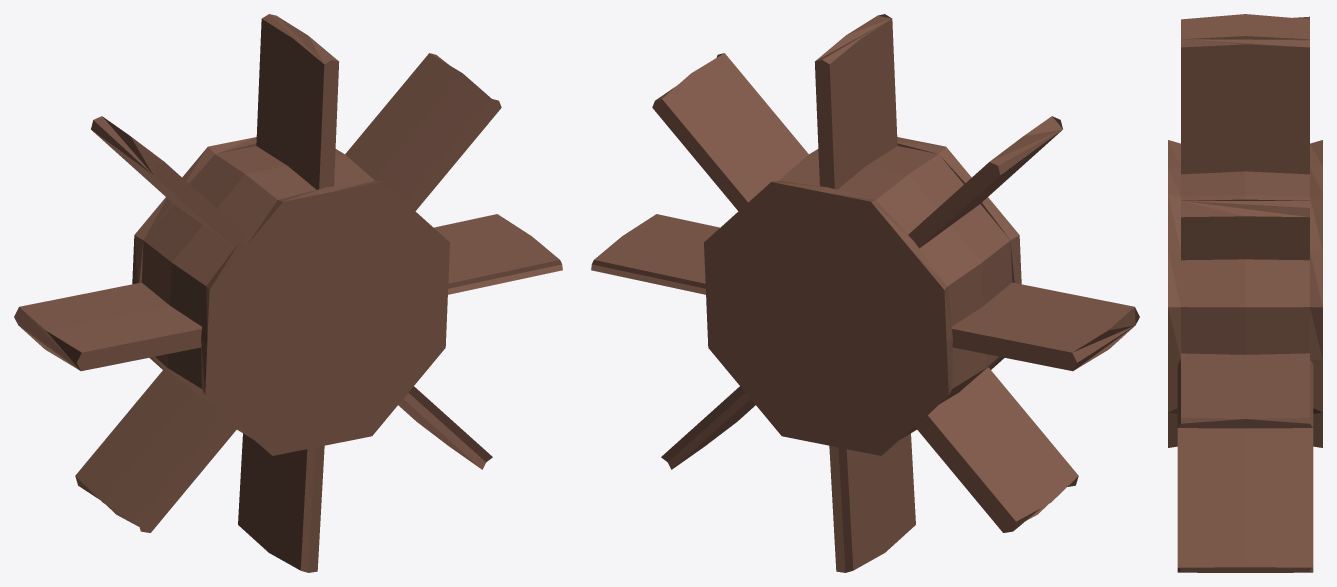
Rendered from WaterRadje.fbx.
3 views of the same model, side by side, from view 1: azimuth 30°, elevation 25°; view 2: azimuth 150°, elevation 25°; view 3: azimuth 270°, elevation 25° (orthographic). The views are drawn at different scales.
Parts seen in each view (by area): view 1: polySurface1619; view 2: polySurface1619; view 3: polySurface1619.
Part boxes in pixels (x1,y1,x2,y2): polySurface1619: (14, 14, 562, 572); polySurface1619: (591, 14, 1139, 572); polySurface1619: (1168, 14, 1322, 572).
Bounding box in the file's own units: 42.17 × 42.1 × 11.29.
